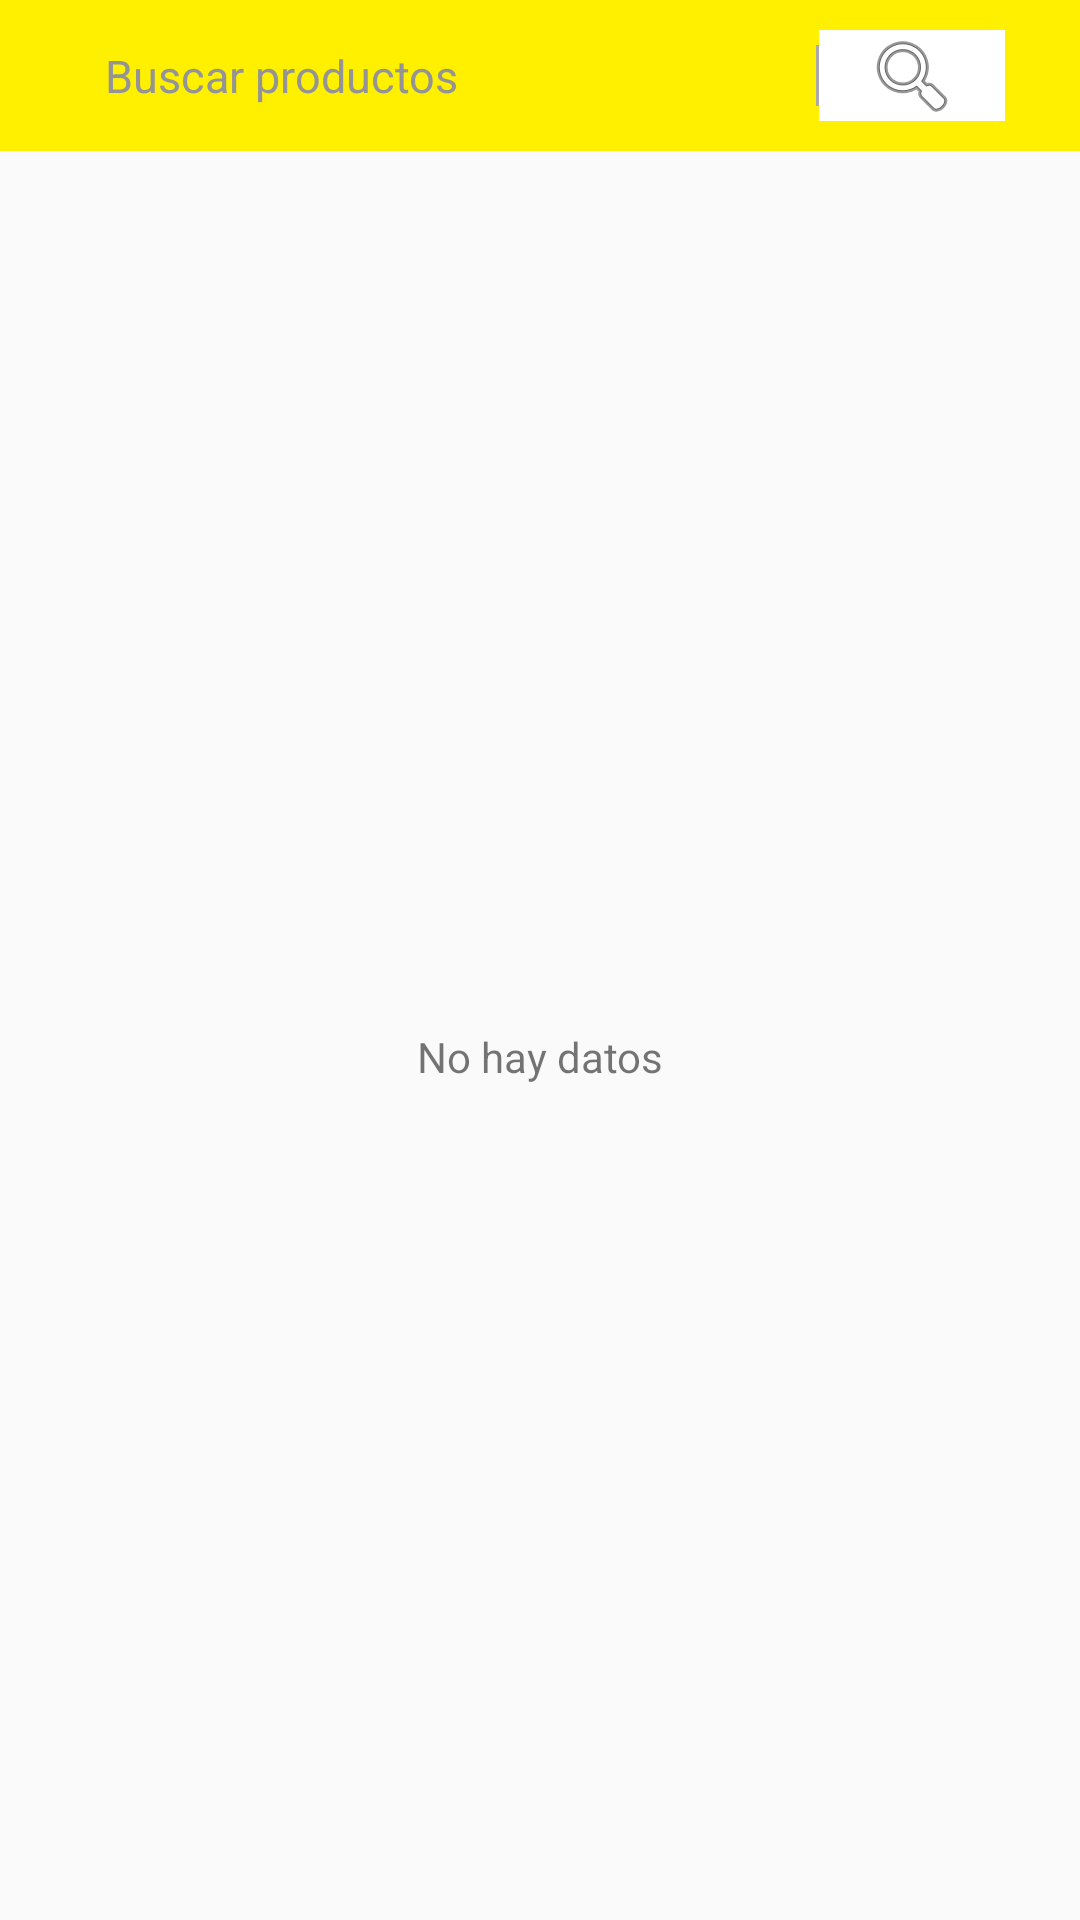

Point at icon controls on the screen. Image size 1080x1920, points as (x,y).
search: (912,75)
